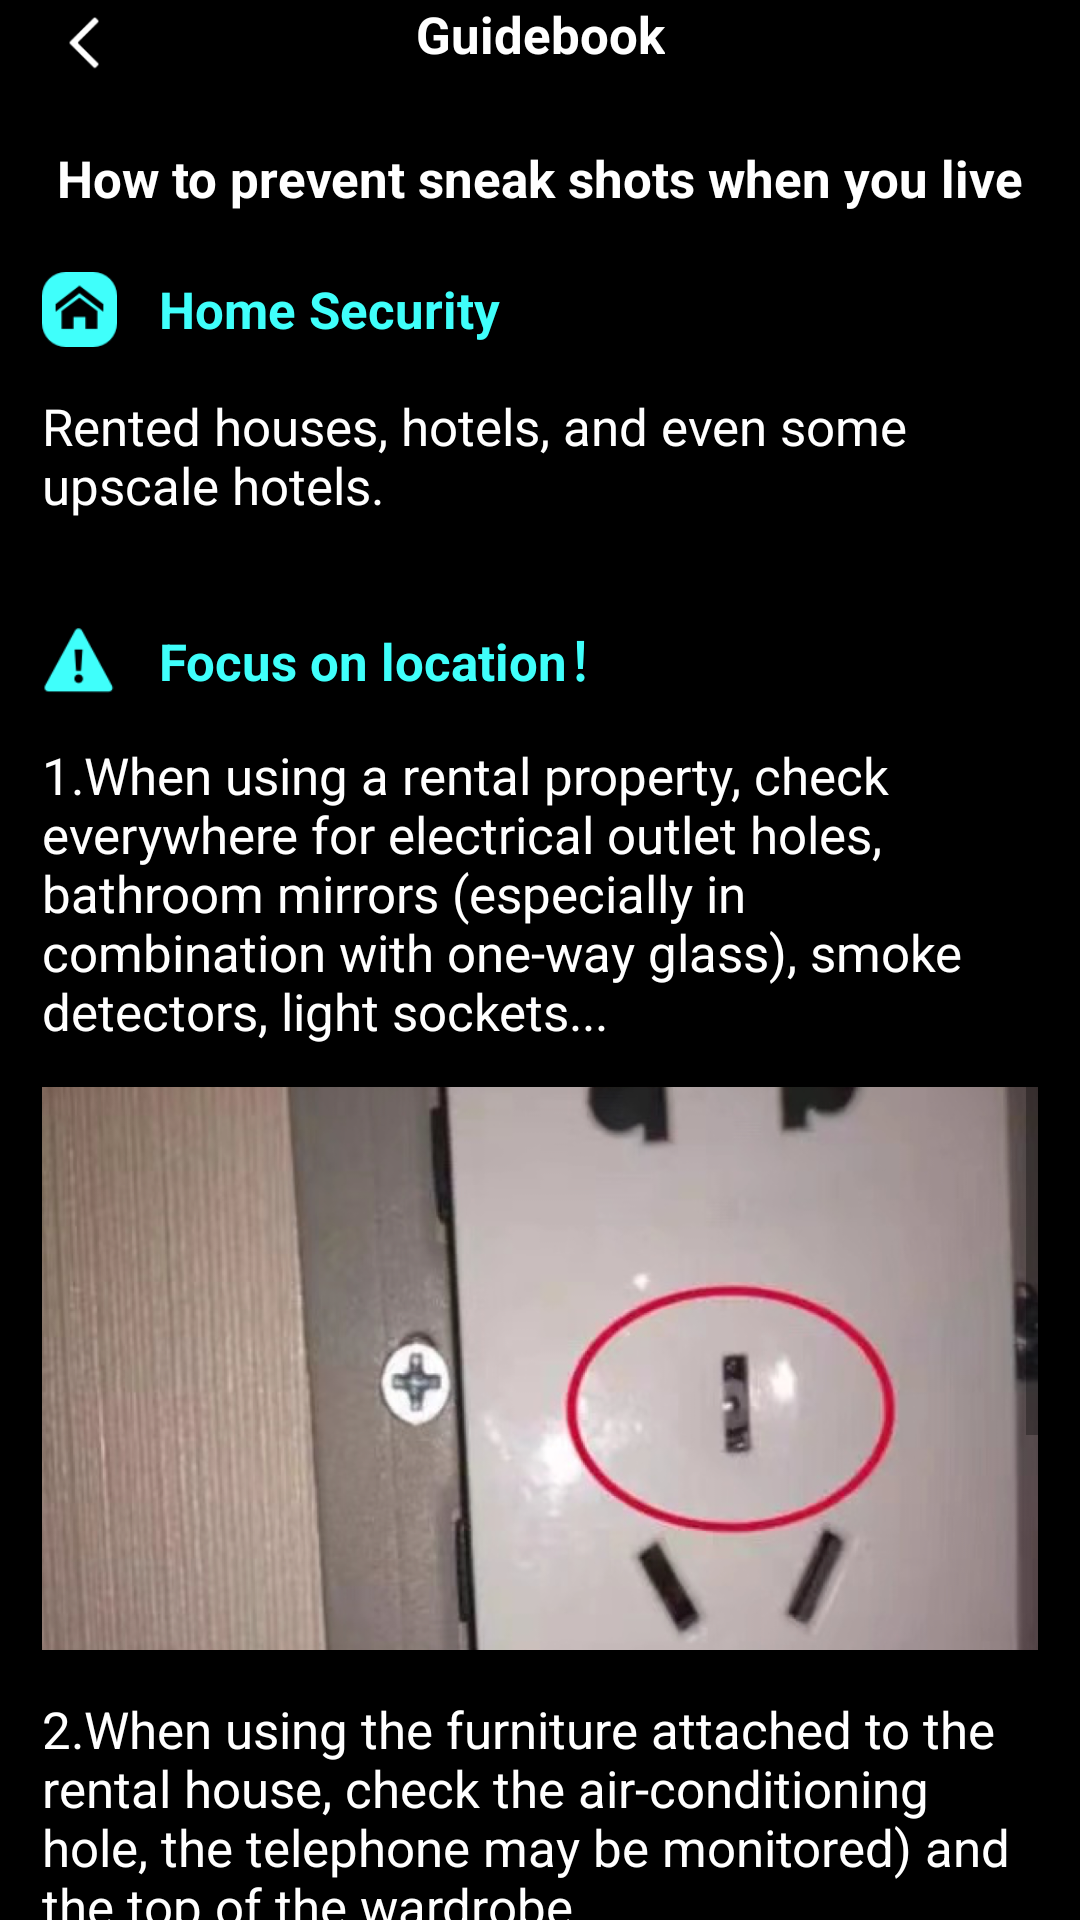

Icon bounding boxes for this 1080x1920 phone screenshot, format (x1,y1,x2,y2):
back: (69,17,99,69)
